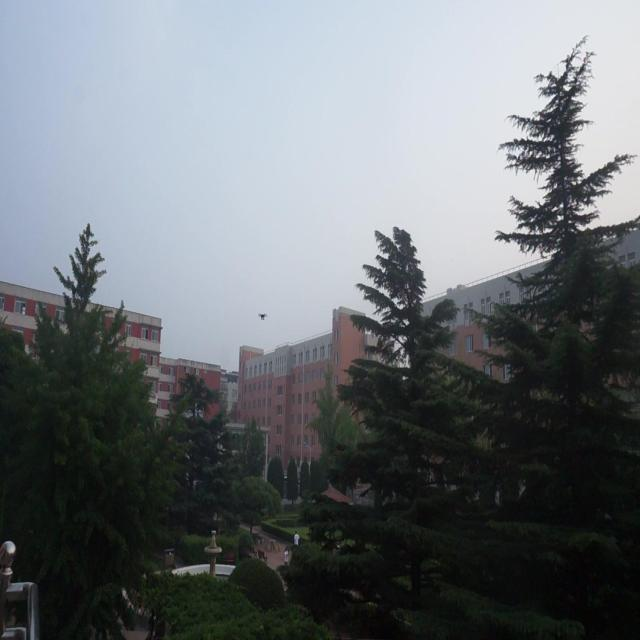drone: (256, 308, 268, 322)
